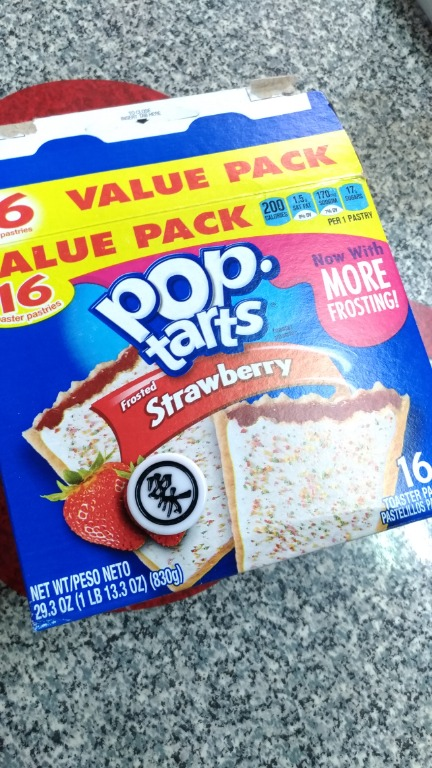b-elephant: (98, 443, 239, 546)
